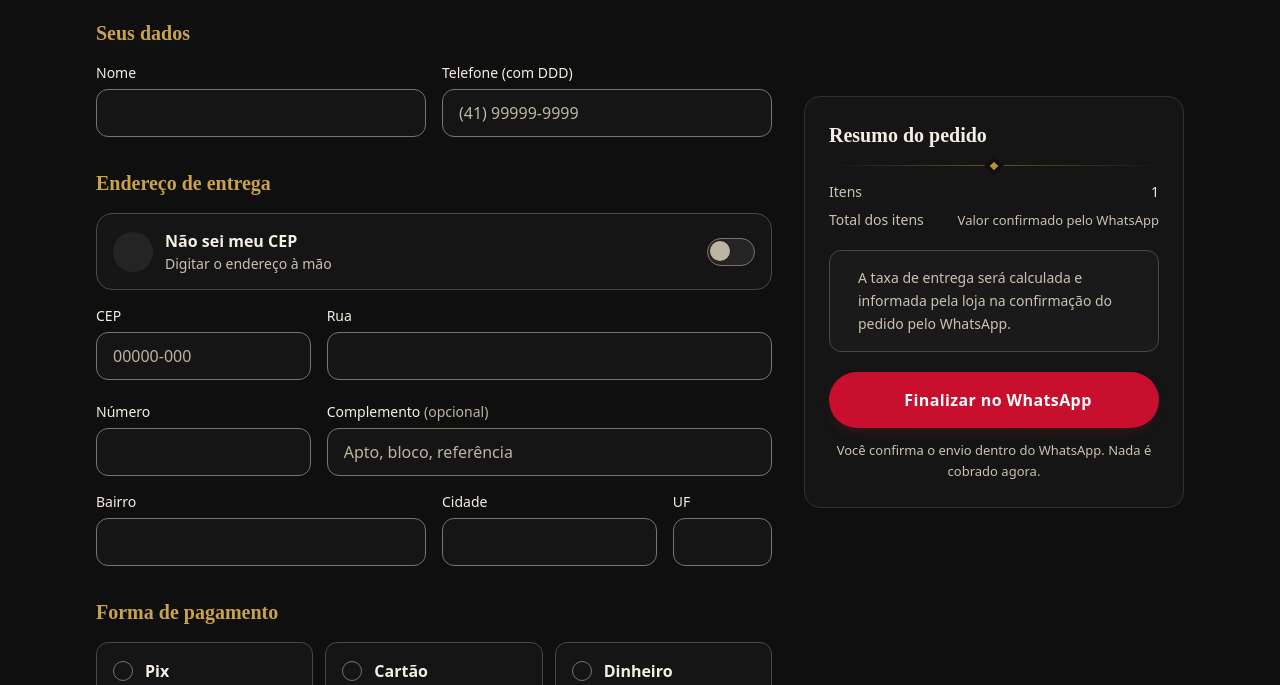
CartPageComponent / checkout › com itens › CEP inexistente e erro de rede avisam (aria-live) e mantêm os campos editáveis
(page scrolled)
Type "99999999" into the field labelled "CEP".
click(203, 356); type("99999999")  # box [96,332,311,380]
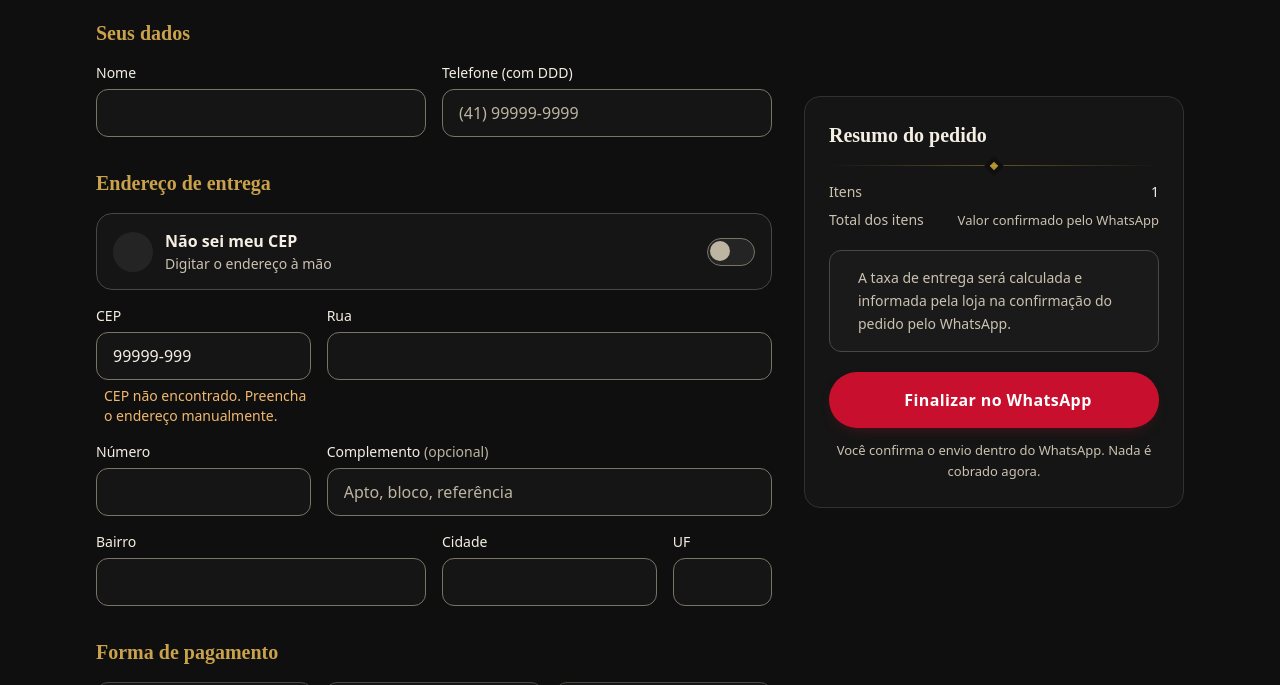
Expected: the message with id "cep-status" shows "CEP não encontrado", [104,386,306,425]
Replace the text in the field labelled "CEP" with "80010000" at [203, 356], box [96,332,311,380]
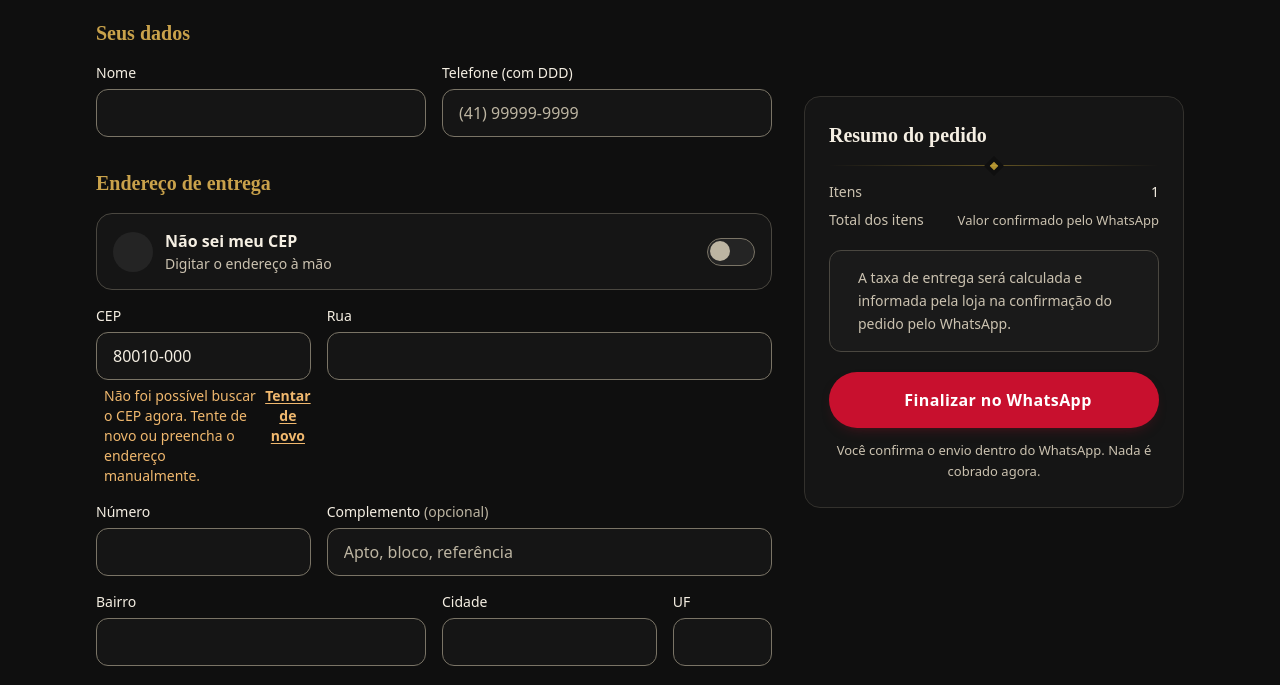
Expected: the message with id "cep-status" shows "Não foi possível buscar o CEP", [104,386,256,485]
